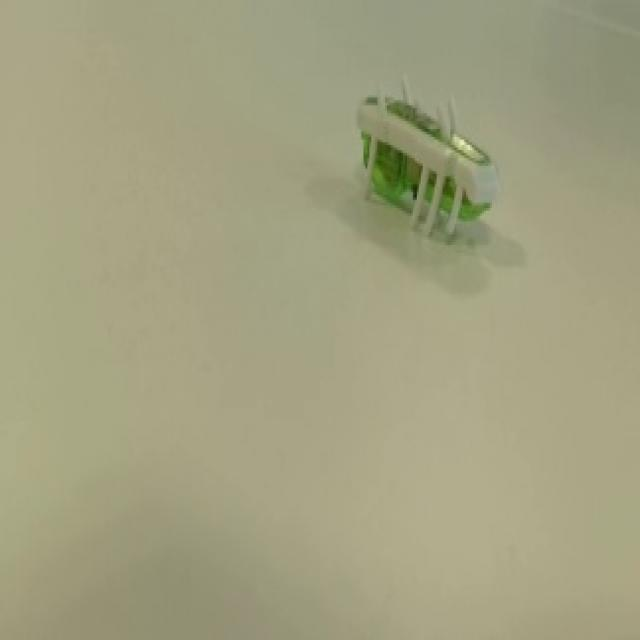4_NanoBug_Blanco: (347, 40, 509, 272)
